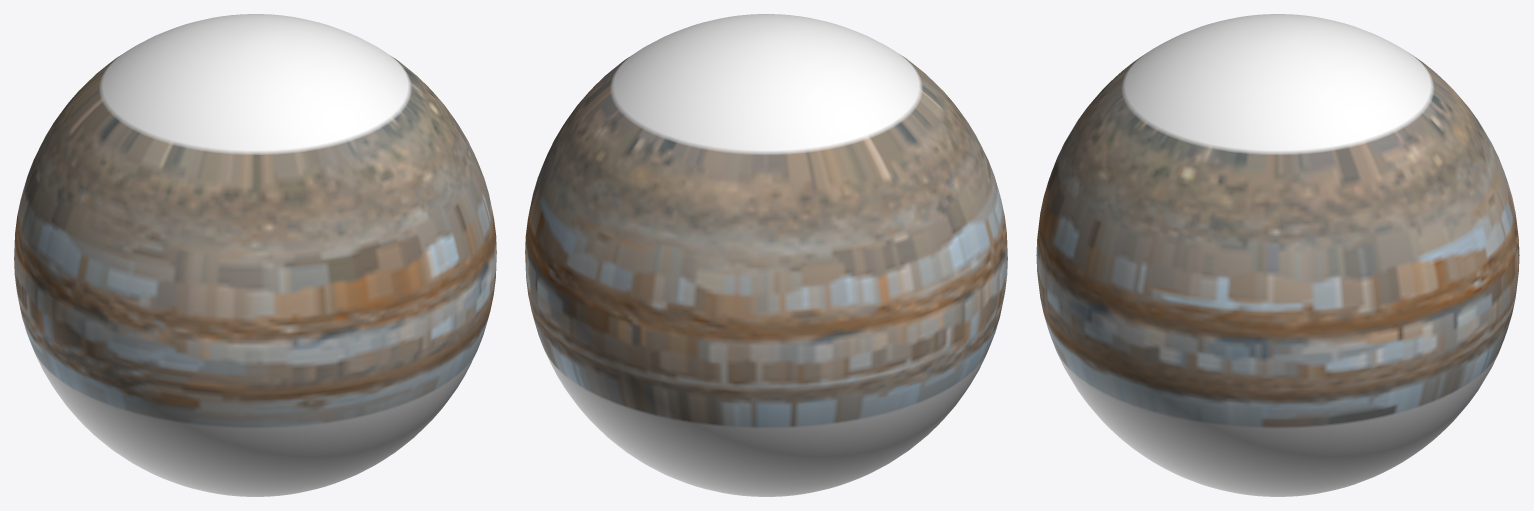
The model's file is Jupiter.gltf.
3 views of the same model, side by side, from view 1: azimuth 30°, elevation 25°; view 2: azimuth 150°, elevation 25°; view 3: azimuth 270°, elevation 25° (orthographic).
Visible parts, largest first — view 1: Jupiter_Clouds_02; view 2: Jupiter_Clouds_02; view 3: Jupiter_Clouds_02.
Part boxes in pixels (x1,y1,x2,y2): Jupiter_Clouds_02: (14, 14, 496, 496); Jupiter_Clouds_02: (525, 14, 1007, 496); Jupiter_Clouds_02: (1036, 14, 1519, 496).
Bounding box in the file's own units: 20.4 × 20.4 × 20.4.
2 materials, 2 textured.
